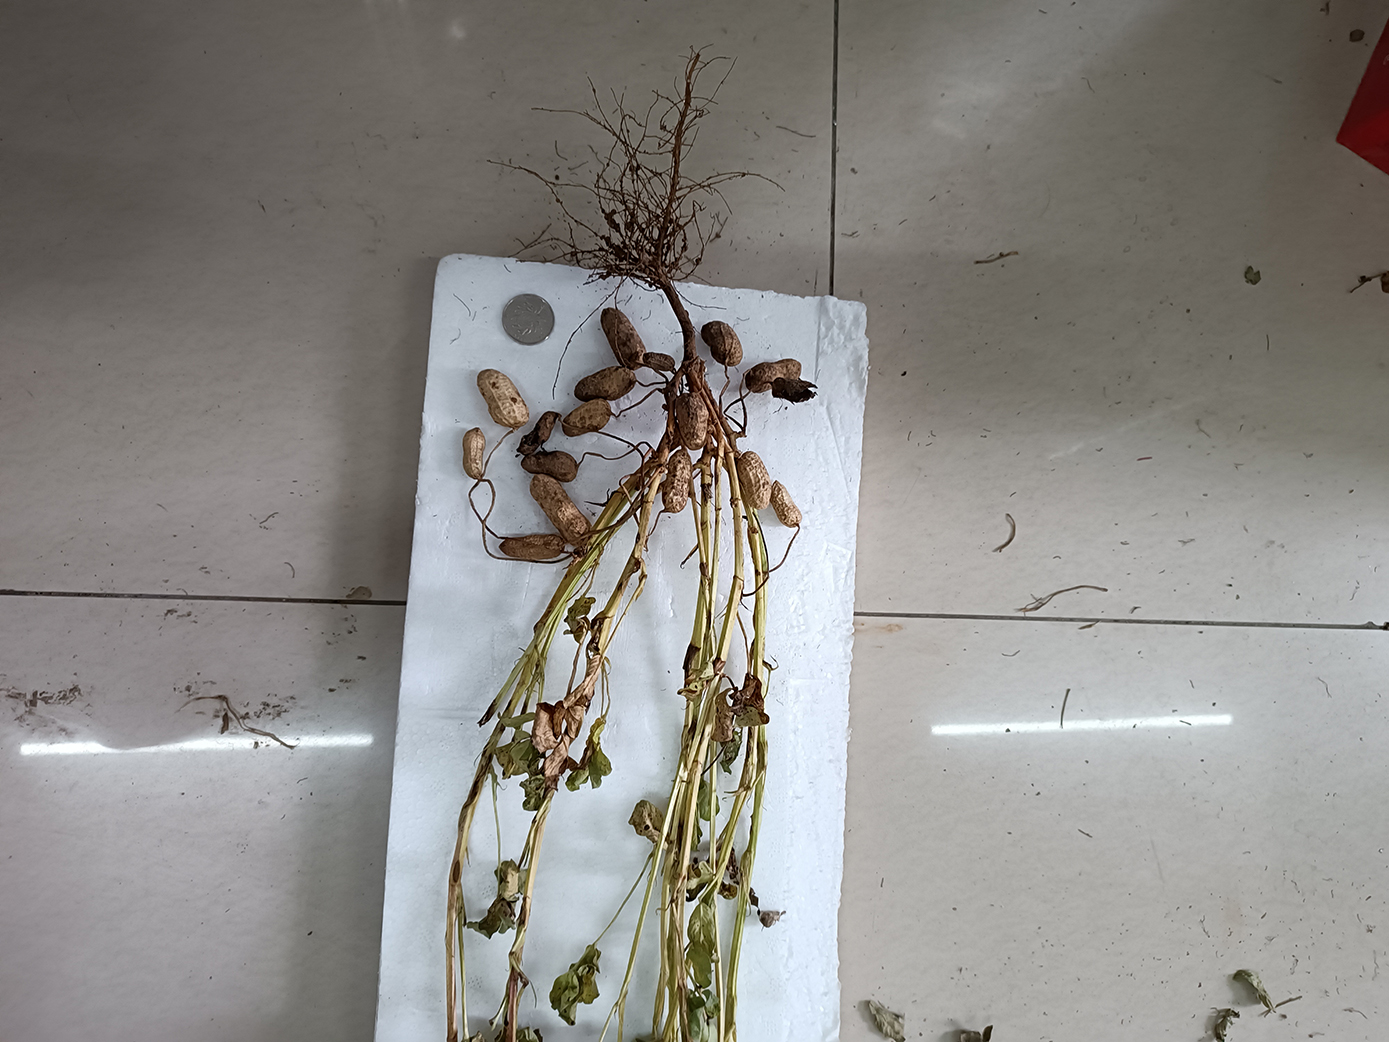h: (529, 474, 590, 545), (476, 368, 529, 427), (701, 320, 743, 367), (675, 392, 709, 451), (738, 451, 771, 511), (562, 400, 612, 437), (662, 449, 691, 513), (769, 479, 803, 528), (462, 427, 486, 481)
l: (600, 306, 646, 370), (572, 366, 636, 402), (516, 410, 562, 455), (745, 358, 802, 393), (520, 451, 577, 483), (499, 534, 565, 560), (771, 377, 818, 403), (643, 351, 675, 371)
